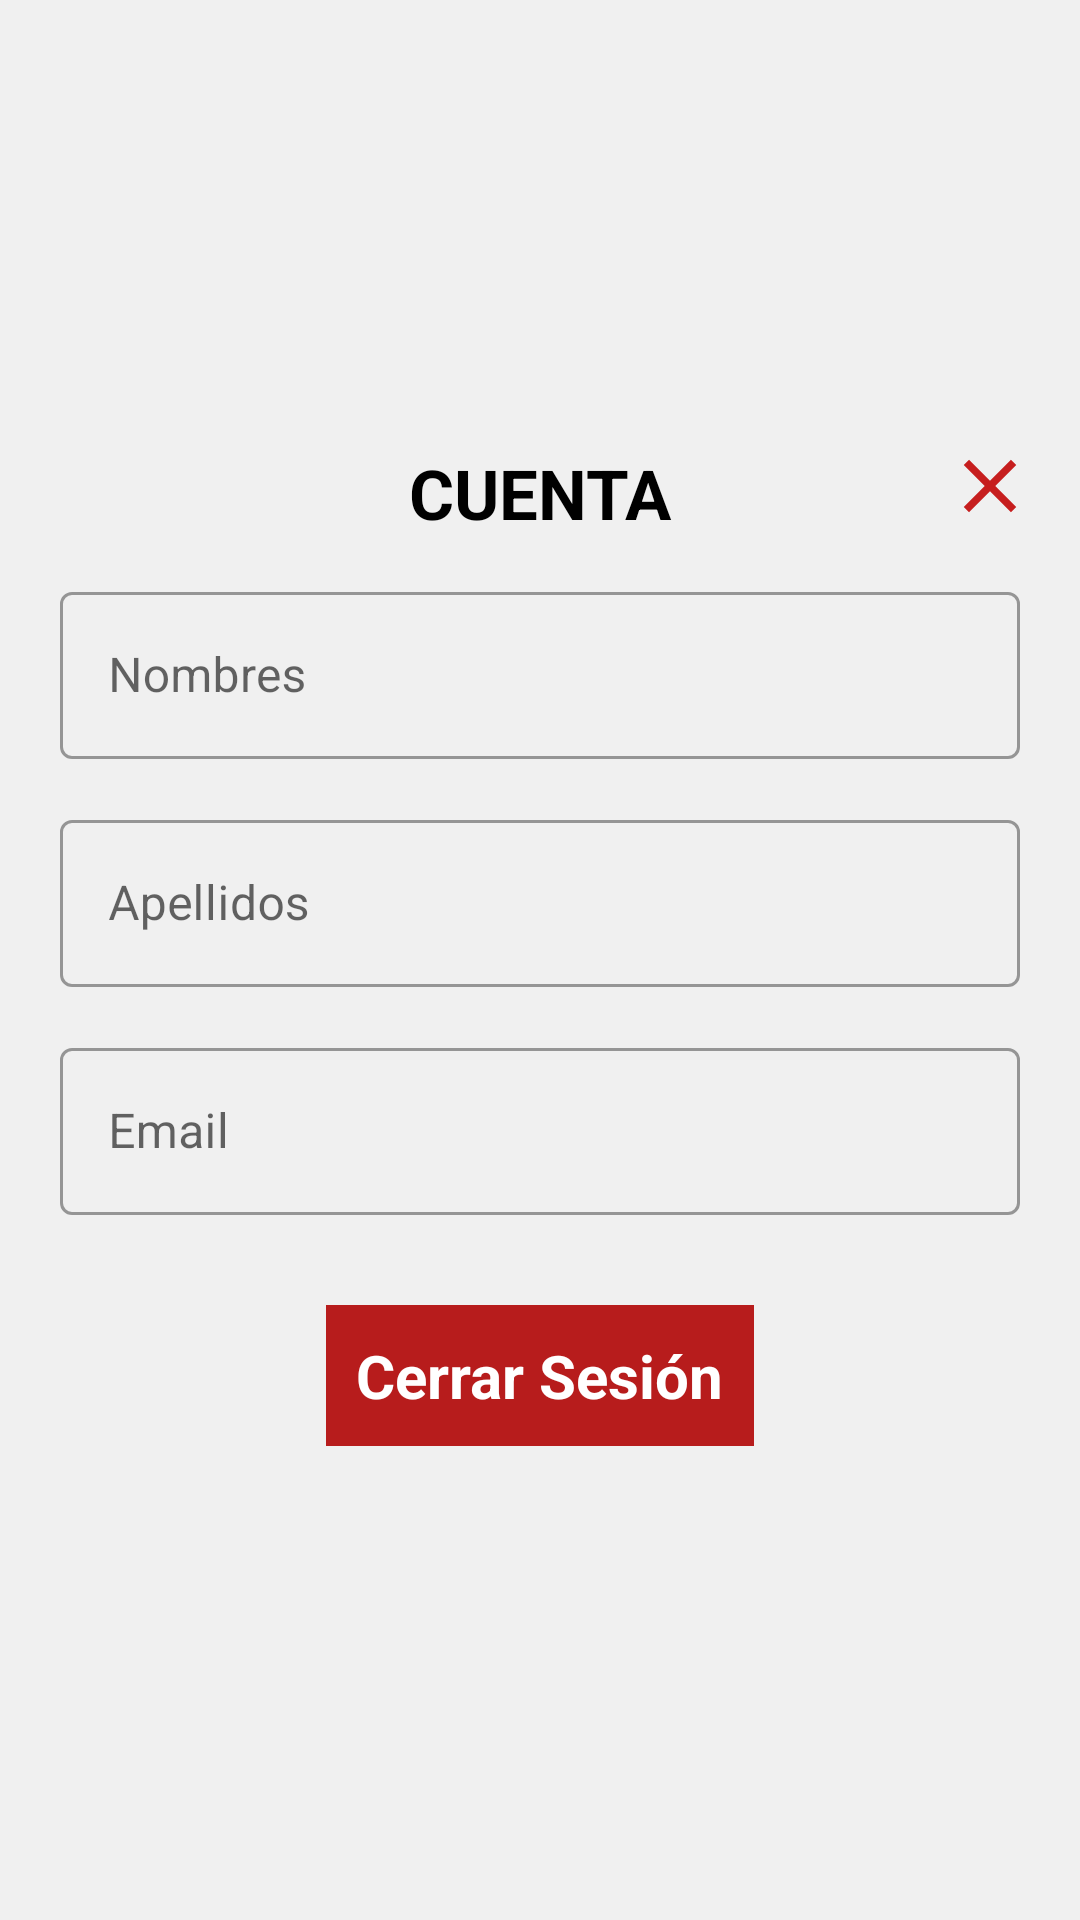

Icons on this 1080 × 1920 Android screen, each with the point to tap as (x,y):
close: (990,486)
